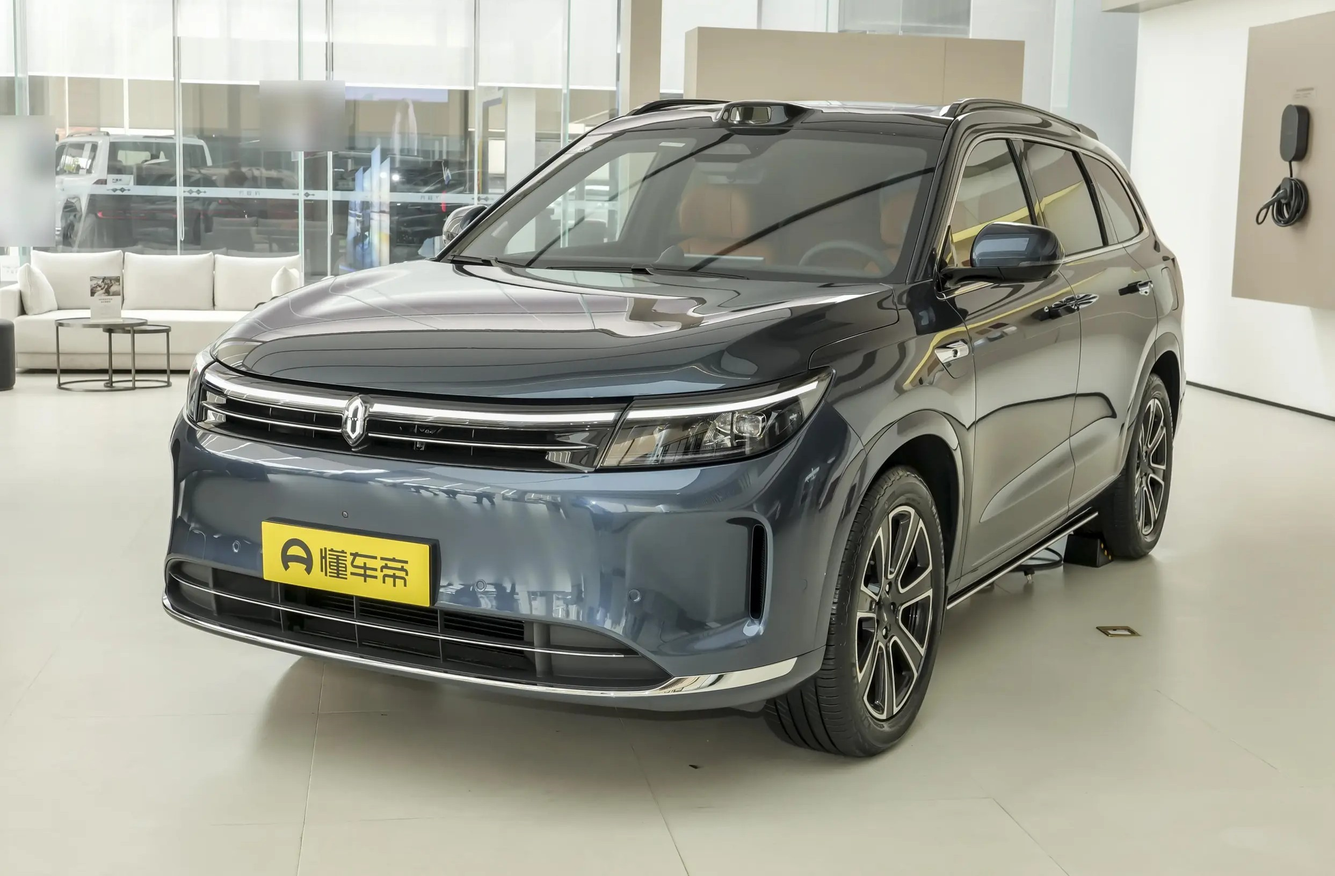AITO: (343, 396, 366, 445)
